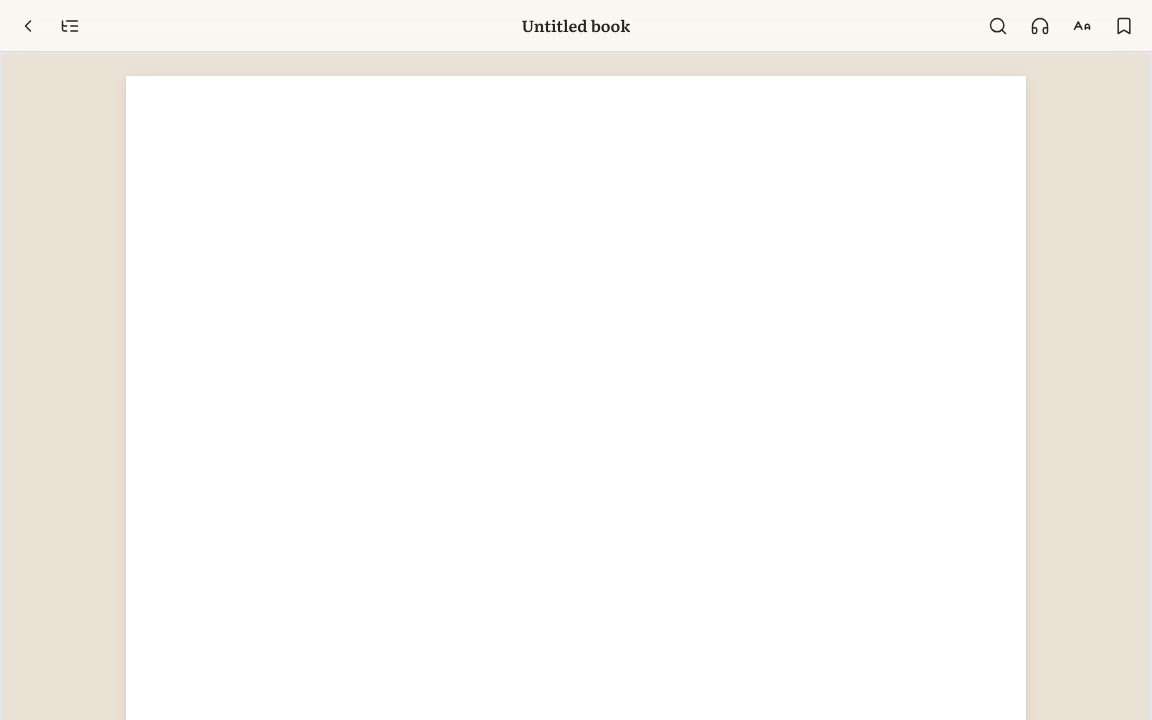
Test: ReaderView contents errors › says so when the table of contents cannot be read
What coordinates should you click on to do the following:
click the button named "Contents"
I would click on:
 (70, 26)
Its box is [50,6,90,46].
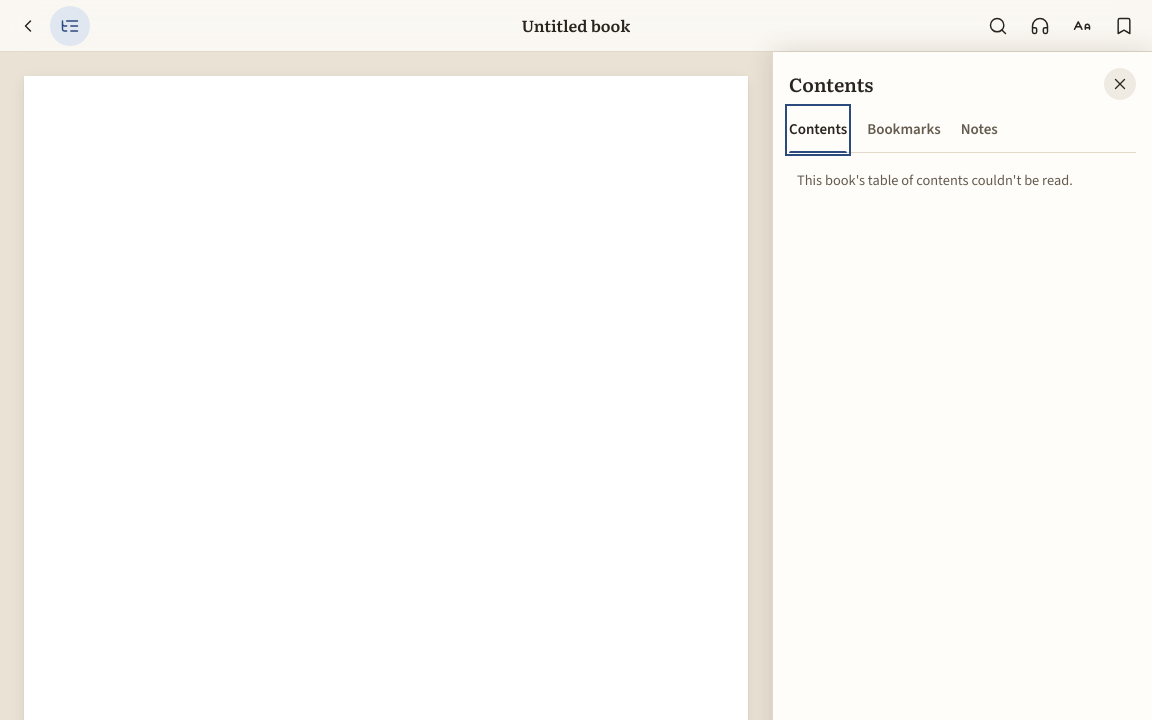
Check: the text "This book's table of contents couldn't be read." is shown, box [797,170,1073,191]
